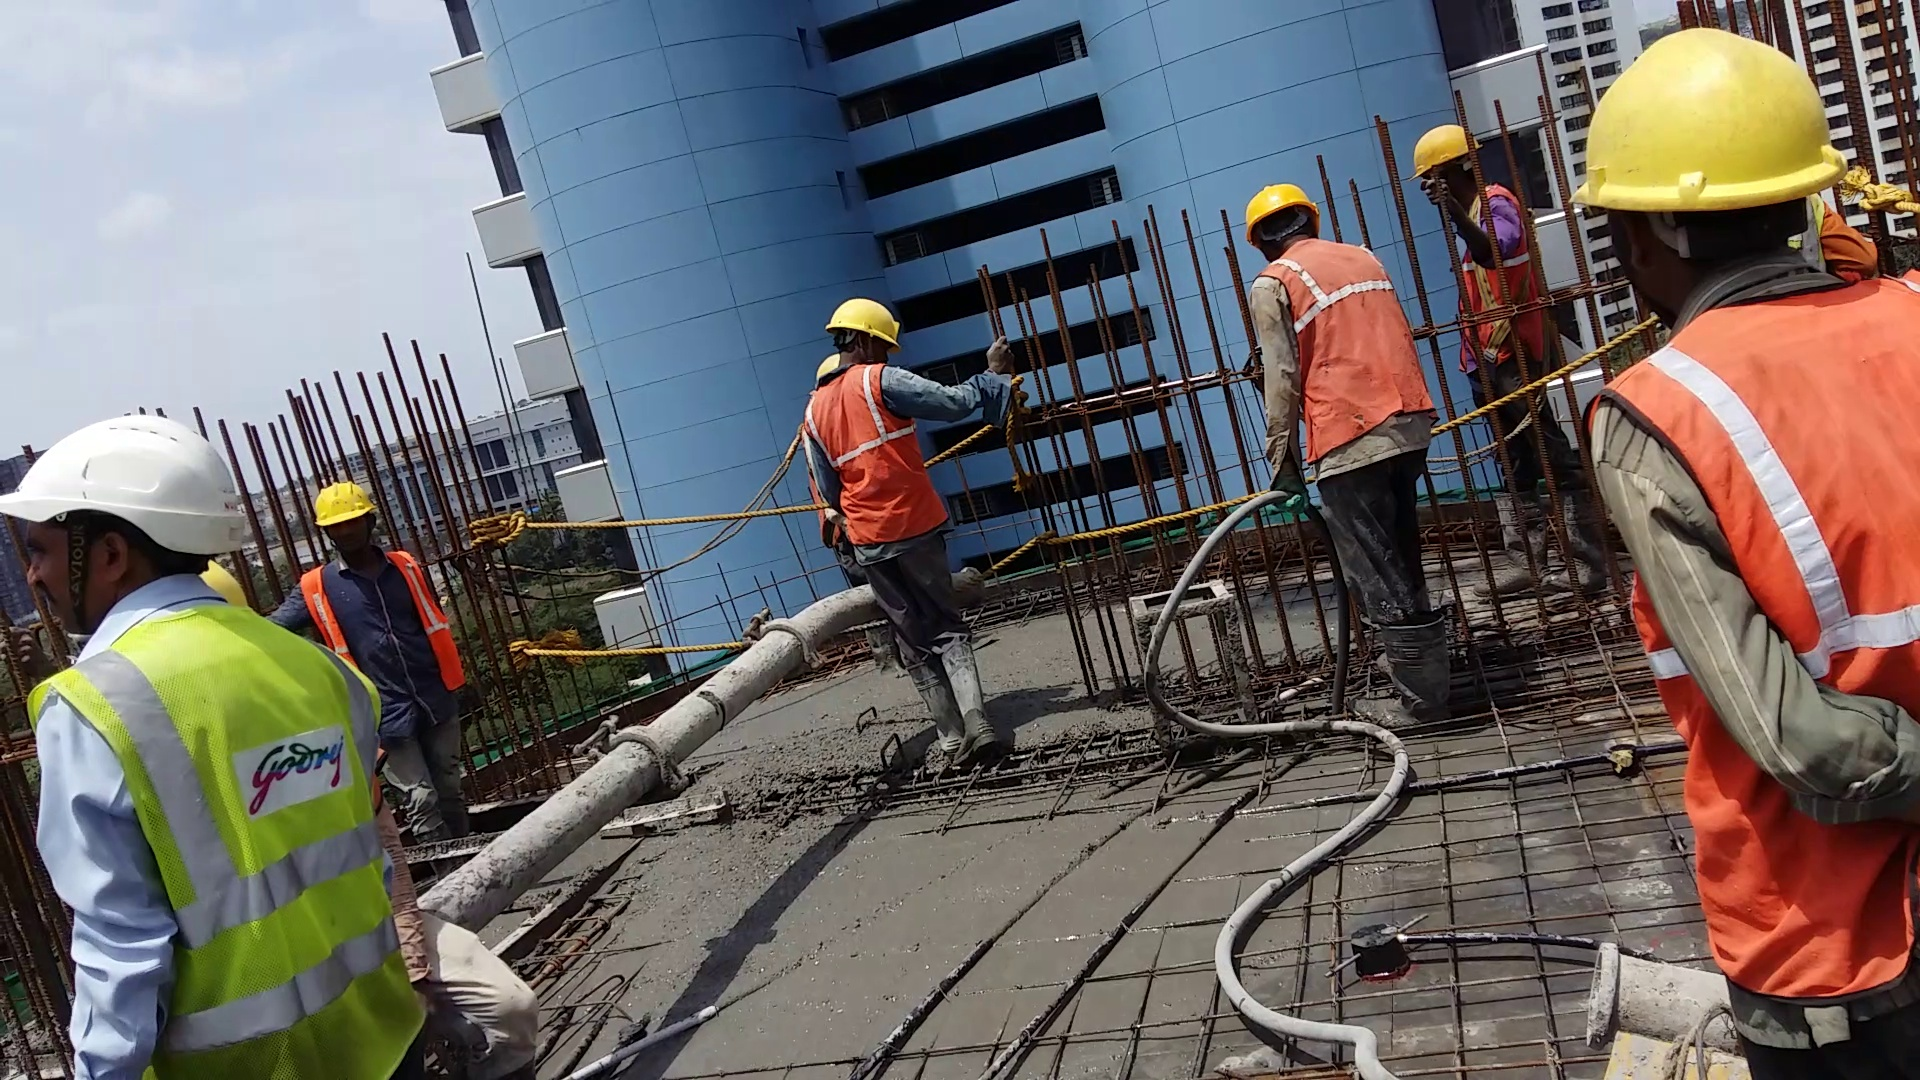SAFE: (1581, 22, 1917, 971), (16, 407, 381, 1068), (1249, 182, 1437, 465), (808, 295, 949, 556), (316, 484, 458, 716)
